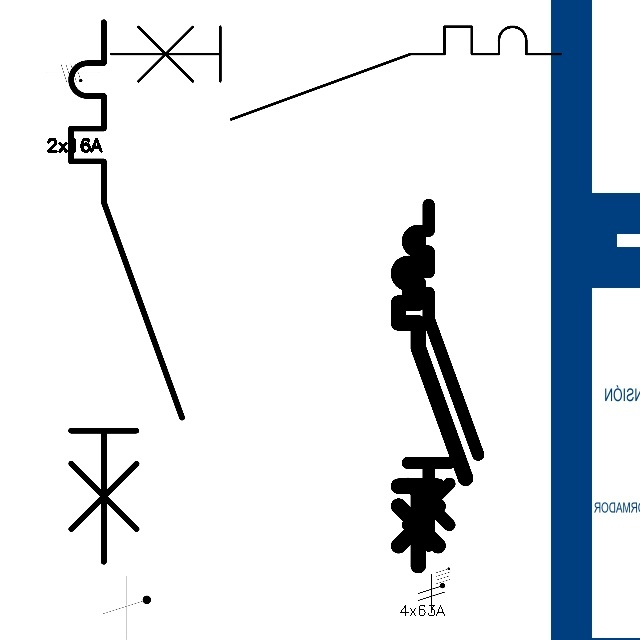interruptor_termomagnetico: (57, 8, 196, 575), (99, 15, 571, 130), (399, 196, 487, 555), (390, 230, 474, 574)
